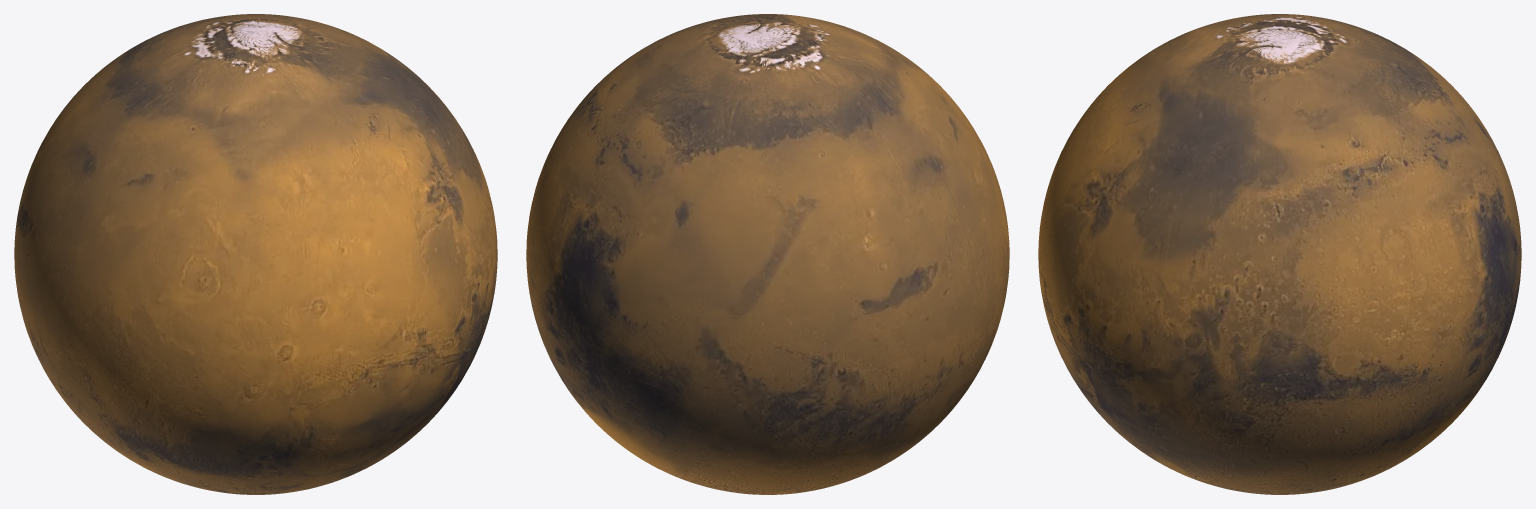
The model's file is mars.glb.
3 views of the same model, side by side, from view 1: azimuth 30°, elevation 25°; view 2: azimuth 150°, elevation 25°; view 3: azimuth 270°, elevation 25° (orthographic).
Parts seen in each view (by area): view 1: mars; view 2: mars; view 3: mars.
Part boxes in pixels (x1,y1,x2,y2): mars: (14,14,497,494); mars: (526,14,1009,494); mars: (1038,14,1521,494).
Bounding box in the file's own units: 6792394 × 6752594 × 6792394.
Materials: 1 (1 with a texture image).
